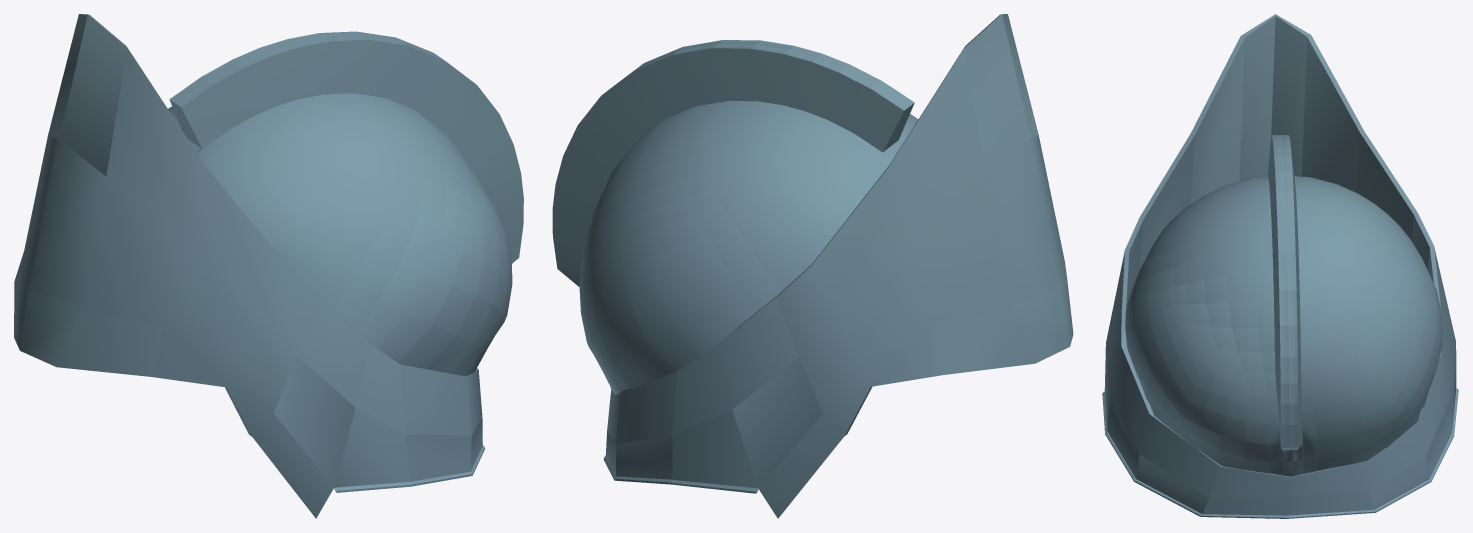
Rendered from helmet_1.fbx.
3 views of the same model, side by side, from view 1: azimuth 30°, elevation 25°; view 2: azimuth 150°, elevation 25°; view 3: azimuth 270°, elevation 25° (orthographic). The views are drawn at different scales.
Visible parts, largest first — view 1: helmet.003; view 2: helmet.003; view 3: helmet.003.
Part boxes in pixels (bbox=[...]): helmet.003: bbox=[14, 14, 523, 518]; helmet.003: bbox=[552, 14, 1073, 518]; helmet.003: bbox=[1102, 14, 1458, 518].
Bounding box in the file's own units: 117 × 106 × 92.1.
